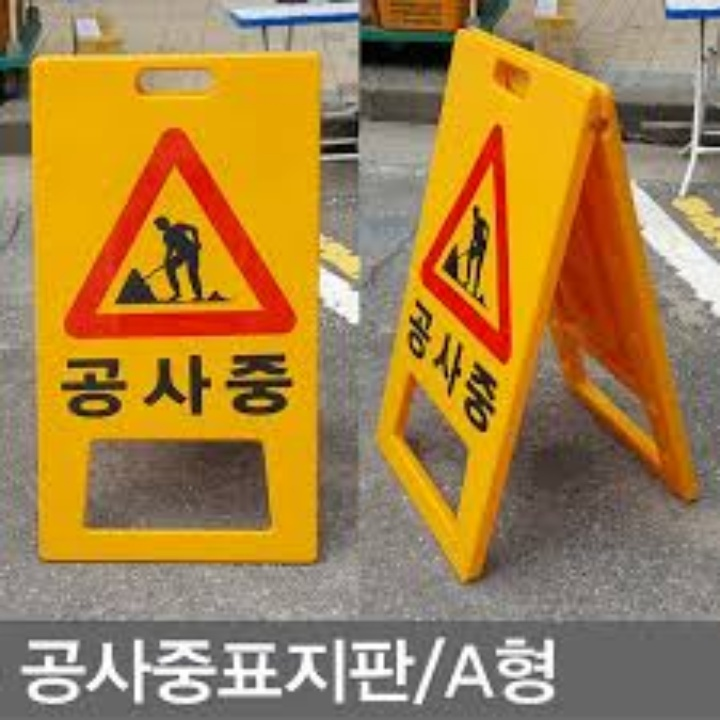const: (111, 205, 233, 304), (437, 201, 515, 309)
